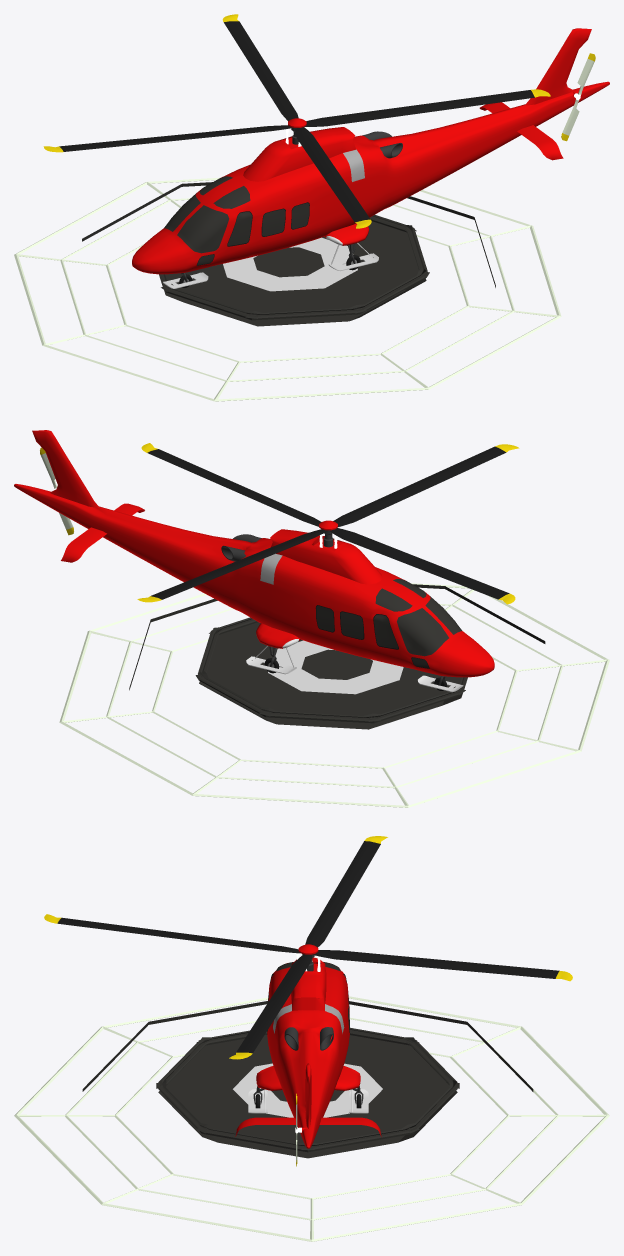
File: AgustaDaVinci (2).gltf
The picture shows the model from 3 angles, top to bottom: view 1: azimuth 30°, elevation 25°; view 2: azimuth 150°, elevation 25°; view 3: azimuth 270°, elevation 25°; orthographic projection. The views are drawn at different scales.
Visible parts, largest first — view 1: Cube, Cylinder.005, Cylinder.006, Cylinder.003, Cube.001, Cylinder.002, Cube.004; view 2: Cube, Cylinder.005, Cylinder.006, Cylinder.003, Cube.001, Cube.004; view 3: Cylinder.005, Cube, Cylinder.006, Cylinder.003, Cube.004, Cube.001, Cube.007, Cylinder.
Part boxes in pixels (bbox=[...]): Cube: bbox=[132, 28, 609, 274]; Cylinder.005: bbox=[82, 182, 495, 326]; Cylinder.006: bbox=[14, 177, 561, 401]; Cylinder.003: bbox=[43, 14, 550, 228]; Cube.001: bbox=[479, 102, 563, 160]; Cylinder.002: bbox=[561, 53, 595, 141]; Cube.004: bbox=[324, 223, 369, 245]; Cube: bbox=[14, 430, 494, 677]; Cylinder.005: bbox=[129, 584, 545, 729]; Cylinder.006: bbox=[59, 583, 609, 807]; Cylinder.003: bbox=[137, 443, 519, 604]; Cube.001: bbox=[61, 503, 144, 562]; Cube.004: bbox=[256, 623, 300, 648]; Cylinder.005: bbox=[82, 1001, 533, 1158]; Cube: bbox=[267, 957, 349, 1148]; Cylinder.006: bbox=[14, 996, 609, 1241]; Cylinder.003: bbox=[44, 836, 572, 1059]; Cube.004: bbox=[256, 1066, 360, 1090]; Cube.001: bbox=[235, 1117, 381, 1136]; Cube.007: bbox=[248, 1089, 368, 1113]; Cylinder: bbox=[284, 1027, 333, 1050].
Size of what is drawn, in the model's own units: 11.09 by 3.54 by 9.62.
